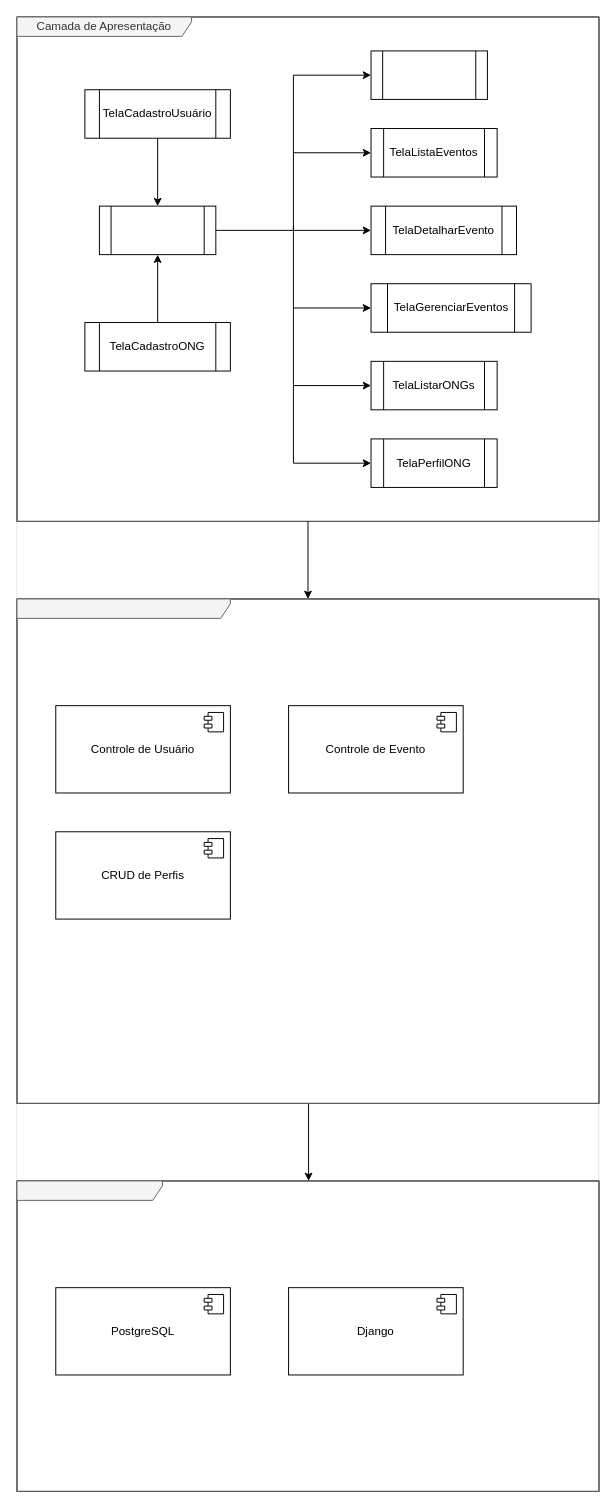
This 616x1508 diagram has some shape labels left out. Each missing label, with the box of its shape:
Camada de Dados: (16, 1180, 599, 1491)
Camada de Lógica de Negócios: (16, 598, 599, 1103)
TelaHome: (370, 50, 487, 99)
TelaLogin: (98, 205, 216, 255)
